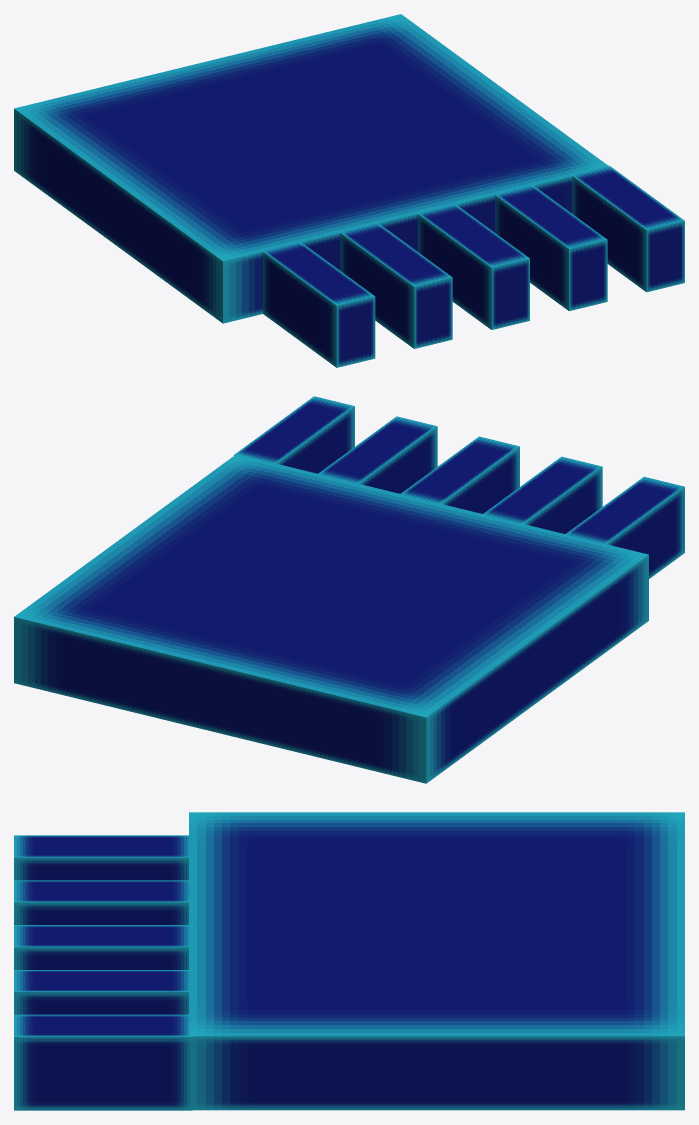
3 renders of one model, top to bottom at view 1: azimuth 30°, elevation 25°; view 2: azimuth 150°, elevation 25°; view 3: azimuth 270°, elevation 25°, orthographic. The views are drawn at different scales.
Visible parts, largest first — view 1: mesh_r; view 2: mesh_r; view 3: mesh_r.
Boxes of the visible parts, x1=… form: mesh_r: x1=14, y1=14, x2=684, y2=367; mesh_r: x1=14, y1=396, x2=684, y2=783; mesh_r: x1=14, y1=812, x2=684, y2=1110.
Size of the model in its own units: 201 by 30.71 by 253.
1 material, 1 textured.
